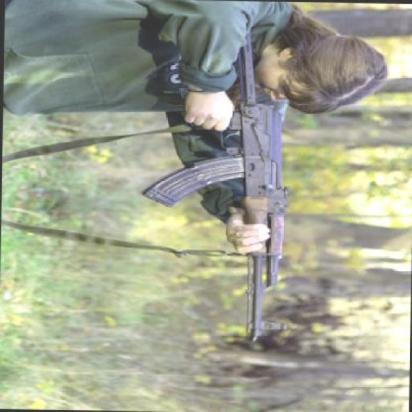Gun: (147, 24, 295, 338)
